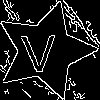V: (20, 25, 57, 73)
